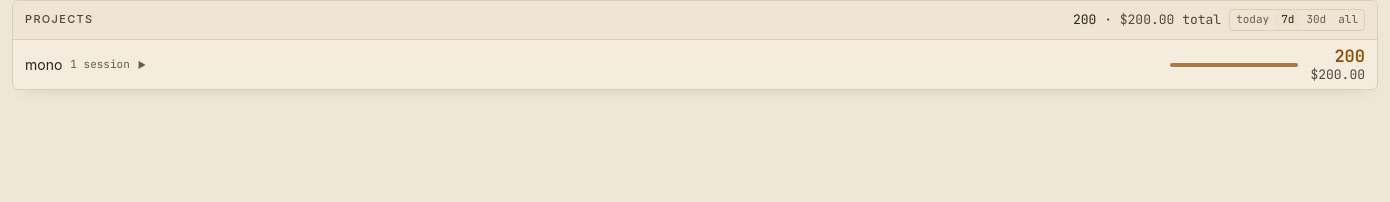
Test: ProjectsPanel figures › does not link a breakdown row anywhere
The image size is (1390, 202).
Click the button titled "mono: show cost by directory": {"x": 44, "y": 64} [13,40,1377,89]
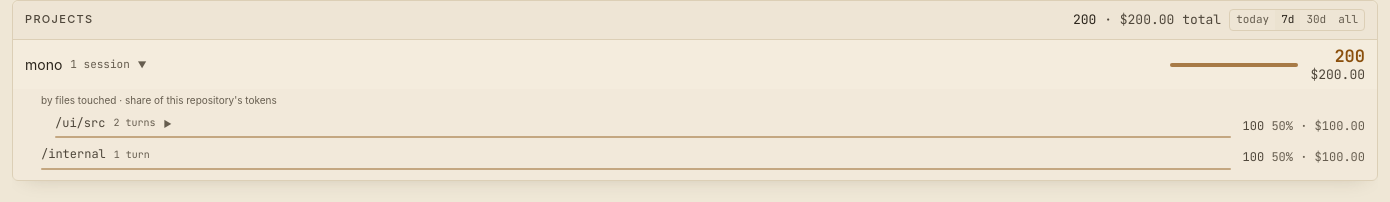
expect the text "/ui/src" is shown: met, box [55,115,105,132]
